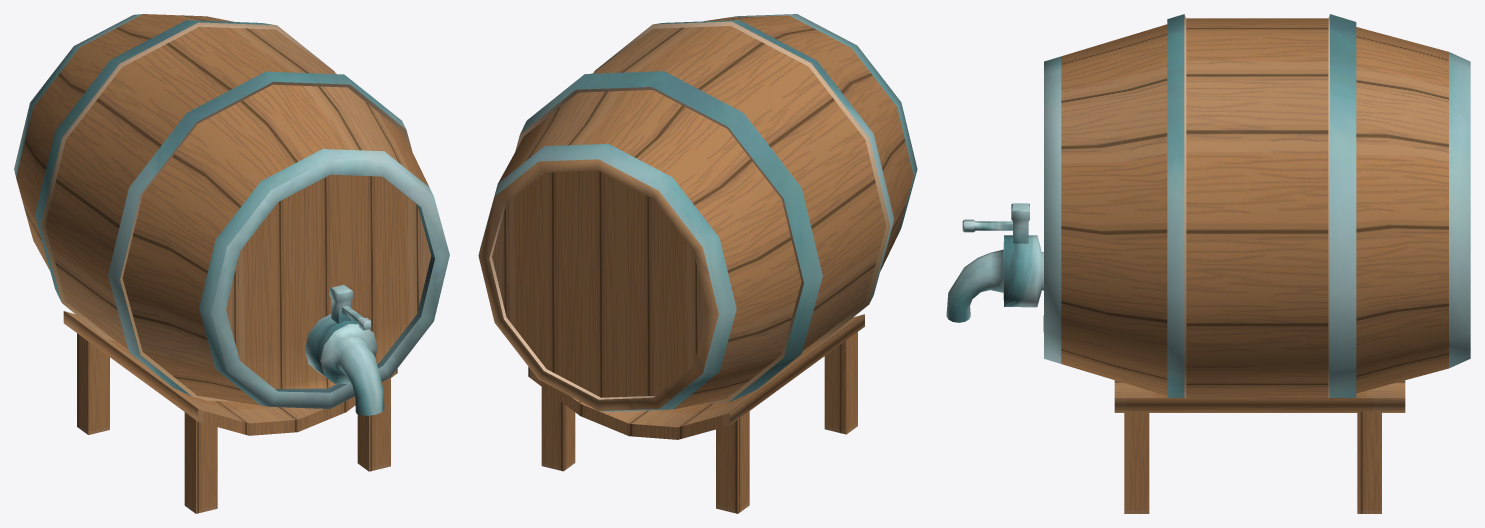
The model's file is Keg (1).fbx.
The picture shows the model from 3 angles, left to right: view 1: azimuth 30°, elevation 25°; view 2: azimuth 150°, elevation 25°; view 3: azimuth 270°, elevation 25°; orthographic projection. The views are drawn at different scales.
Visible parts, largest first — view 1: Keg (1); view 2: Keg (1); view 3: Keg (1).
Part boxes in pixels (<box>): Keg (1): <box>14,14,449,513</box>; Keg (1): <box>478,14,917,513</box>; Keg (1): <box>946,14,1470,513</box>.
Size of the model in its own units: 0.591 by 0.7134 by 0.7864.
Materials: 2 (2 with a texture image).
